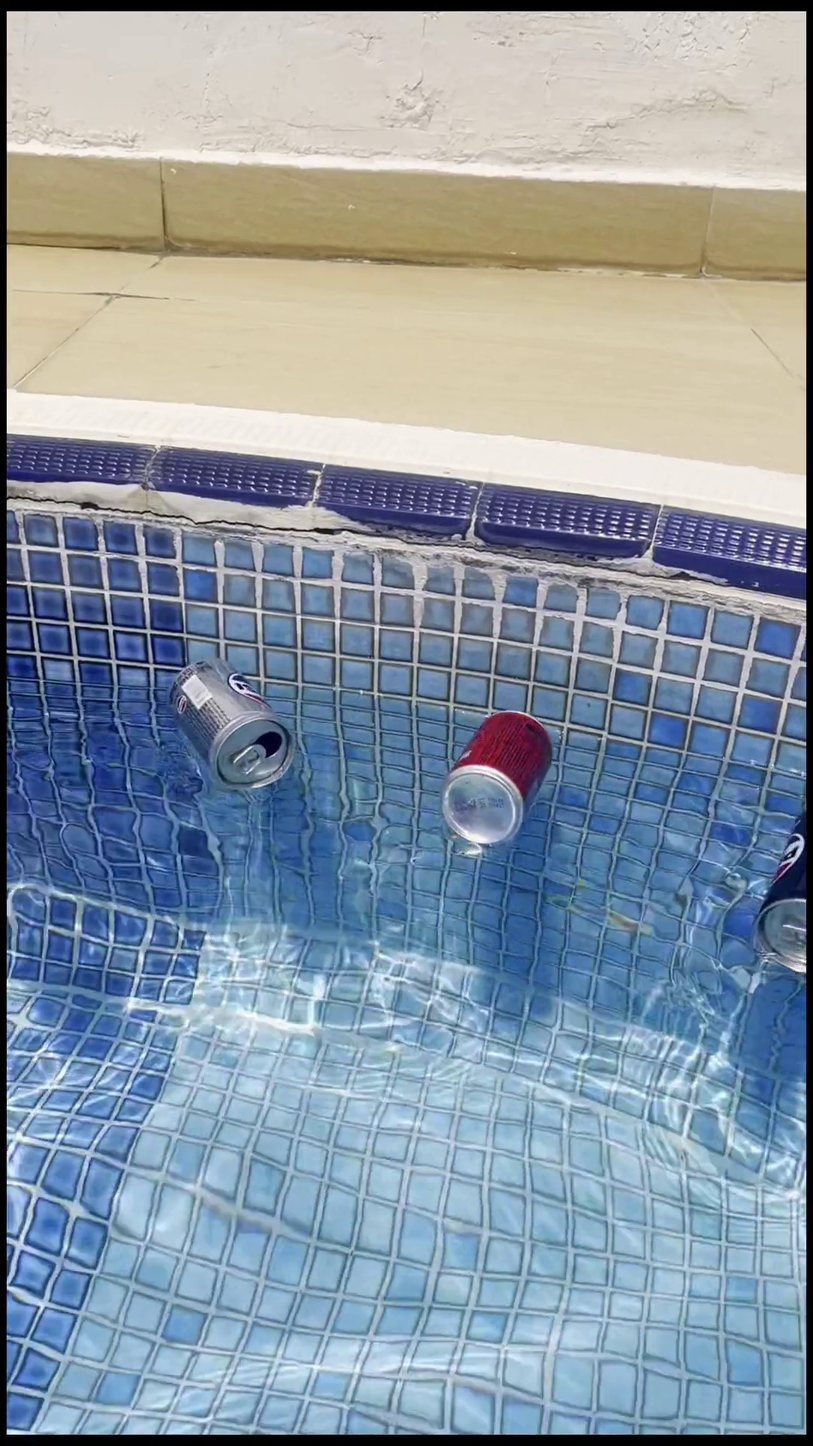debris: (157, 629, 295, 820), (432, 684, 553, 874), (752, 791, 804, 990)
